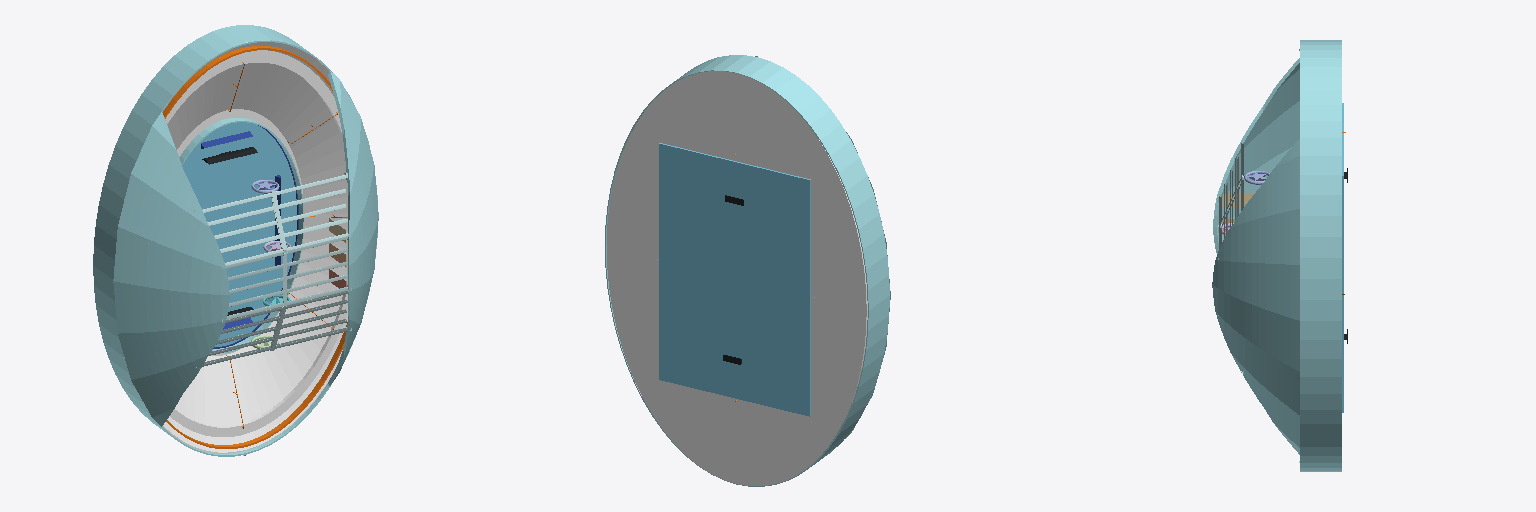
The model's file is tennis_stadium.obj.
3 views of the same model, side by side, from view 1: azimuth 30°, elevation 25°; view 2: azimuth 150°, elevation 25°; view 3: azimuth 270°, elevation 25° (orthographic).
Parts seen in each view (by area): view 1: obj_0; view 2: obj_0; view 3: obj_0.
Part boxes in pixels (left/top/right/bottom): obj_0: left=93, top=25, right=378, bottom=456; obj_0: left=605, top=55, right=890, bottom=486; obj_0: left=1212, top=40, right=1347, bottom=471.
Bounding box in the file's own units: 435 × 647 × 192.